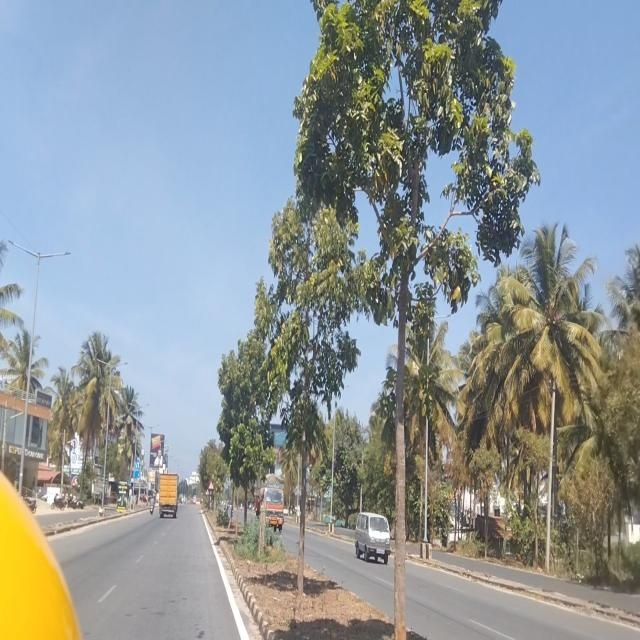bien_nguy_hiem: (209, 478, 214, 492), (205, 489, 210, 498)
